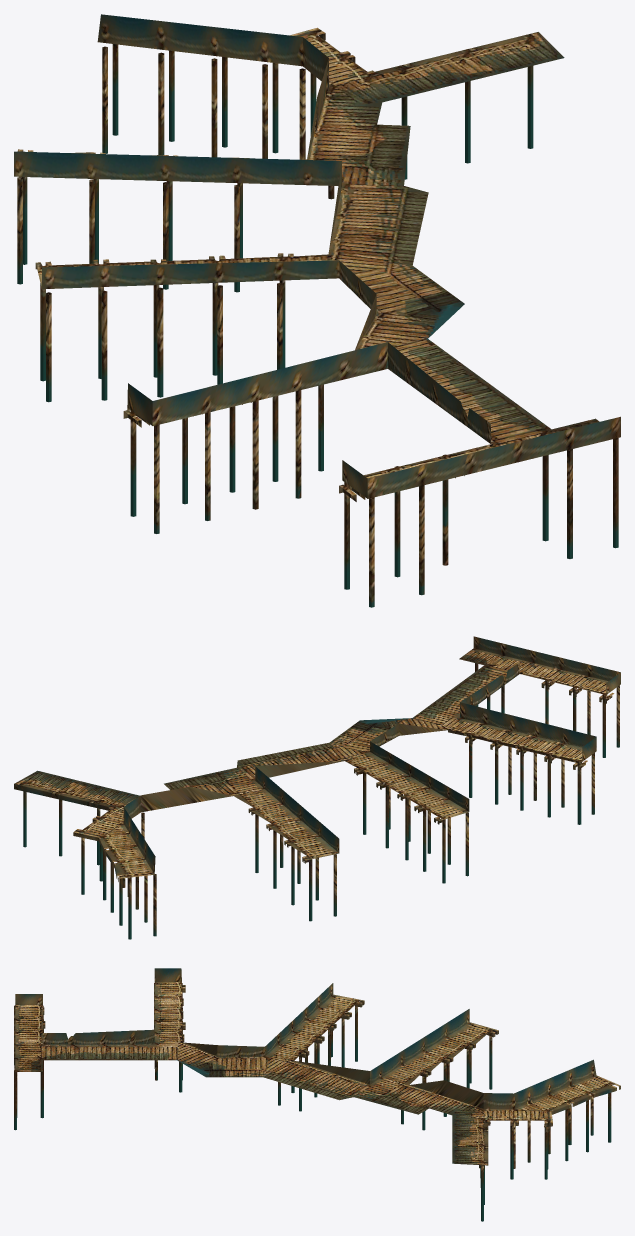
File: T_A_Ferry_01.fbx
The picture shows the model from 3 angles, top to bottom: view 1: azimuth 30°, elevation 25°; view 2: azimuth 150°, elevation 25°; view 3: azimuth 270°, elevation 25°; orthographic projection. The views are drawn at different scales.
Visible parts, largest first — view 1: T_A_Ferry_01; view 2: T_A_Ferry_01; view 3: T_A_Ferry_01.
Part boxes in pixels (bbox=[...]): T_A_Ferry_01: bbox=[14, 14, 620, 607]; T_A_Ferry_01: bbox=[14, 636, 620, 939]; T_A_Ferry_01: bbox=[14, 968, 620, 1221].
Size of the model in its own units: 27.5 by 5.22 by 38.4.
Materials: 1 (1 with a texture image).
